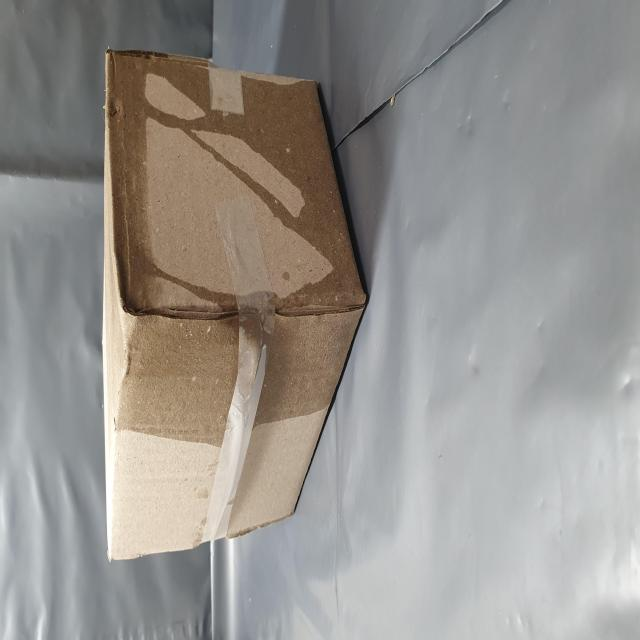wet: (107, 180, 326, 640)
